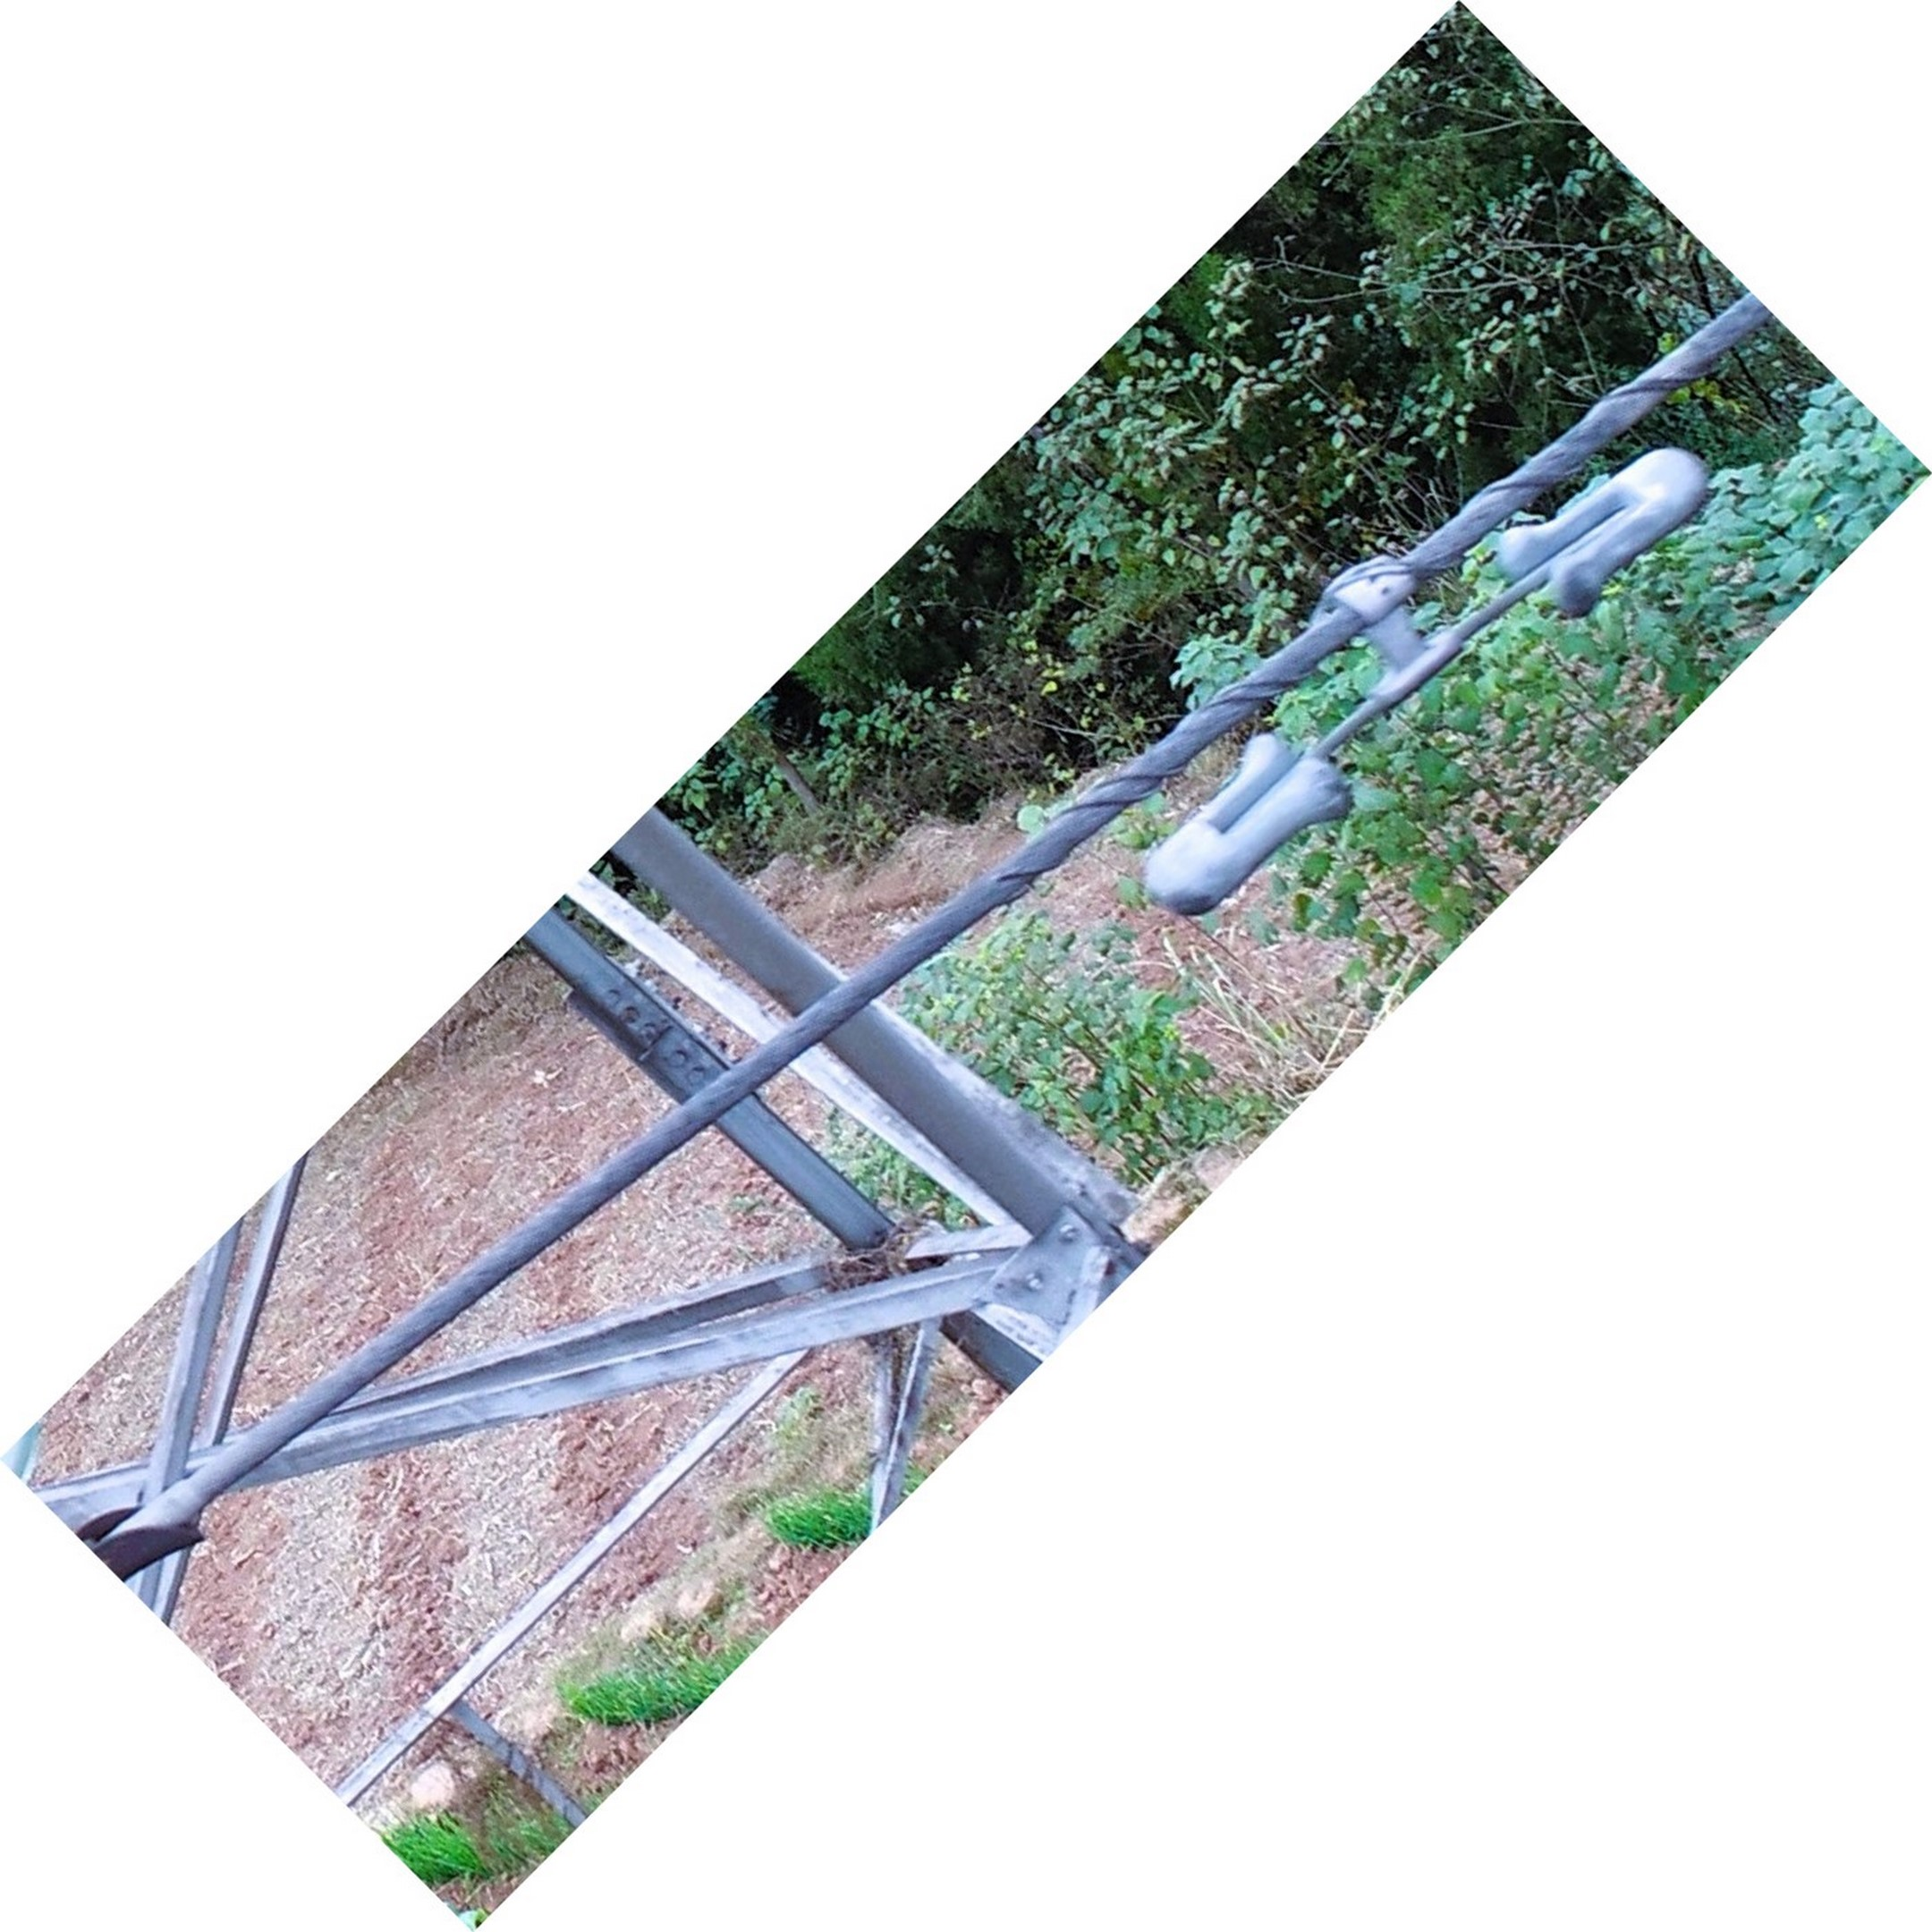Shockproof hammer: (1097, 423, 1720, 938)
